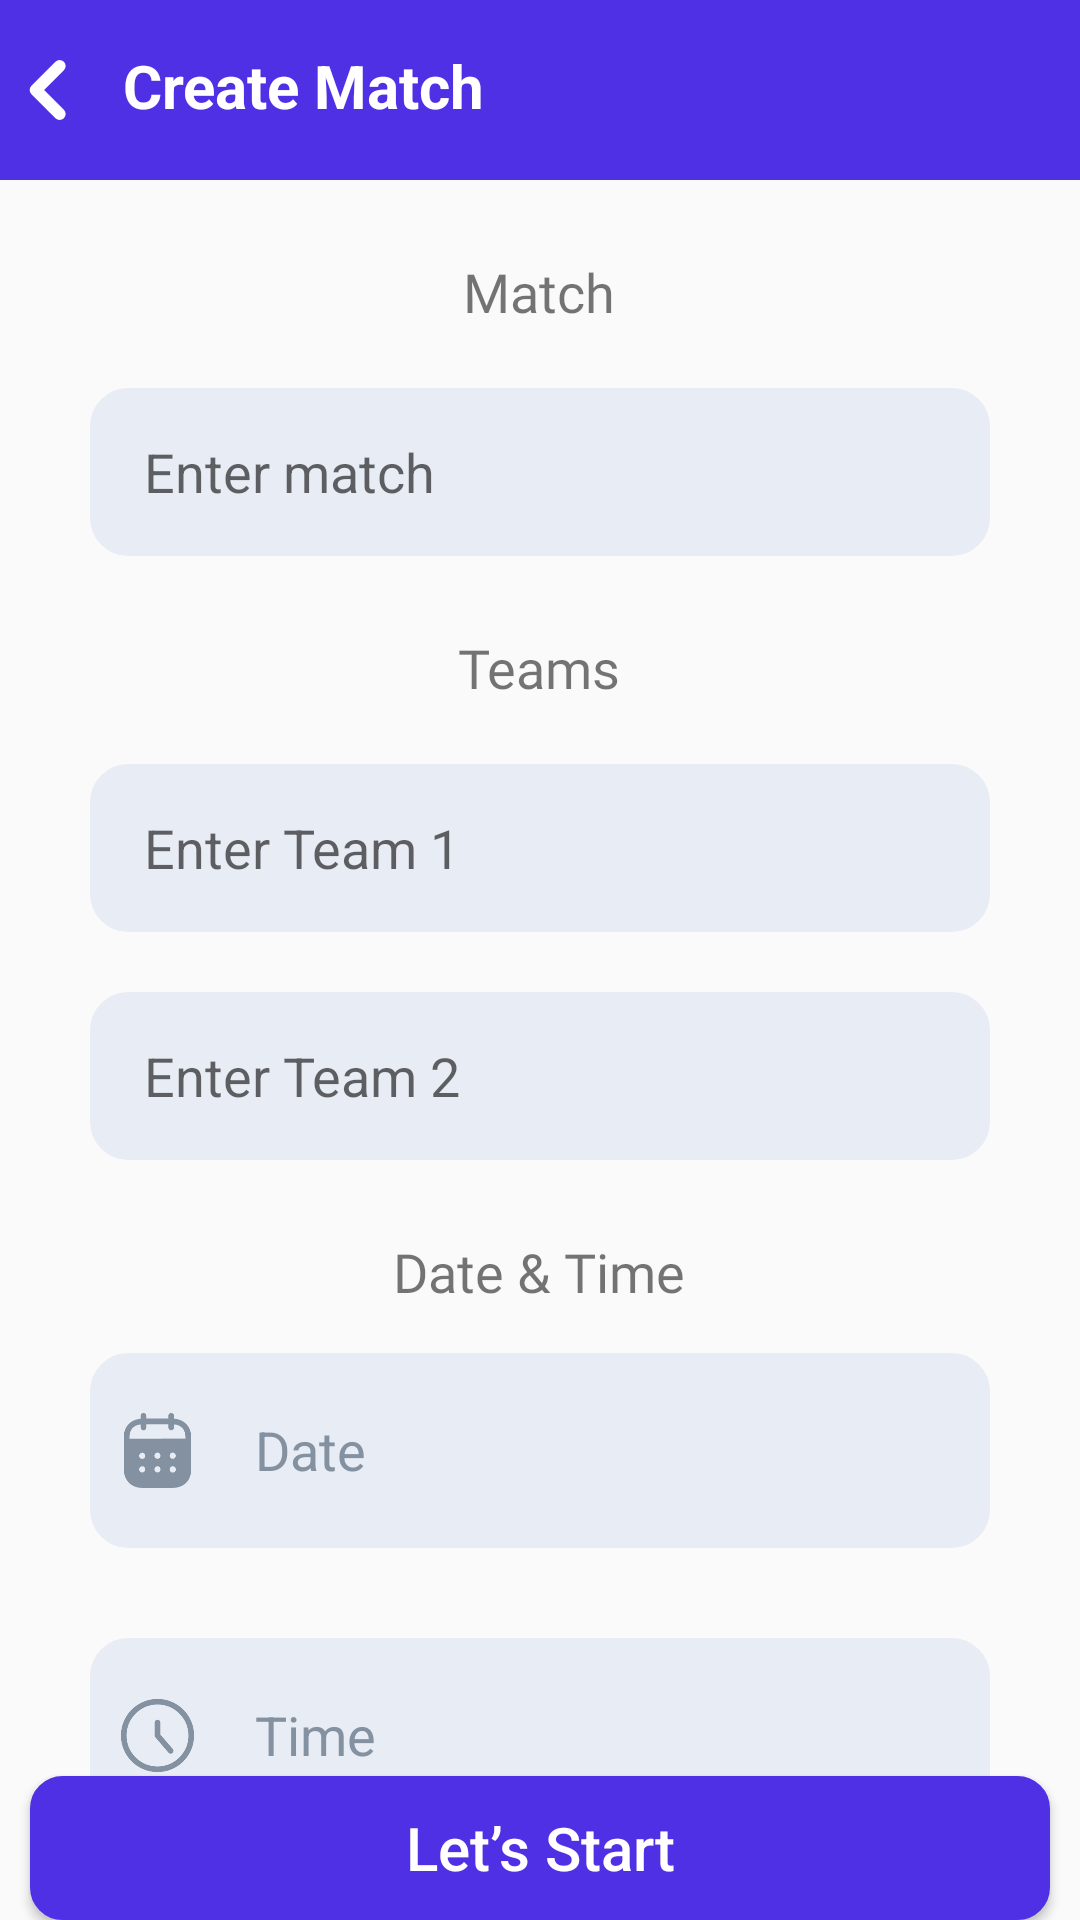

Where icons sit on this 1080×1920 app screen, as box=[x1, y1, x2, y2]:
back arrow: box=[29, 60, 66, 120]
calender: box=[124, 1413, 191, 1488]
clock: box=[121, 1699, 194, 1772]
